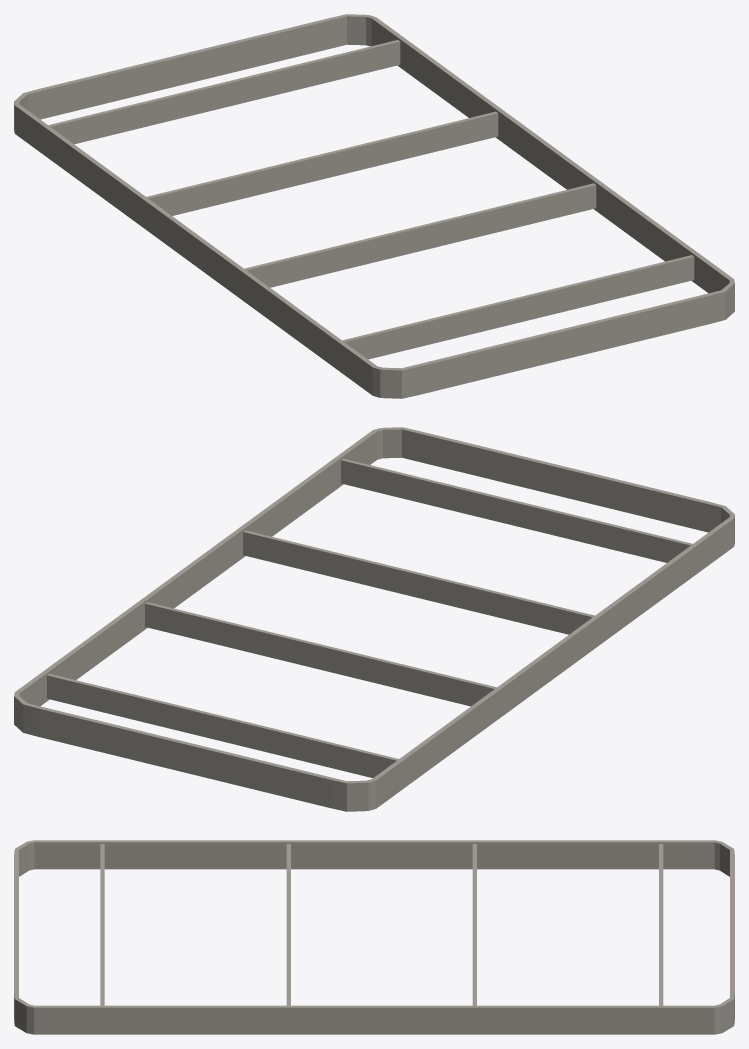
File: metal_frame_01.fbx
3 views of the same model, one above another, from view 1: azimuth 30°, elevation 25°; view 2: azimuth 150°, elevation 25°; view 3: azimuth 270°, elevation 25° (orthographic). The views are drawn at different scales.
Parts seen in each view (by area): view 1: metal_frame_01; view 2: metal_frame_01; view 3: metal_frame_01.
Boxes of the visible parts, x1=… form: metal_frame_01: x1=14, y1=14, x2=734, y2=398; metal_frame_01: x1=14, y1=427, x2=734, y2=811; metal_frame_01: x1=14, y1=840, x2=734, y2=1034.
Bounding box in the file's own units: 100 × 7.54 × 183.
